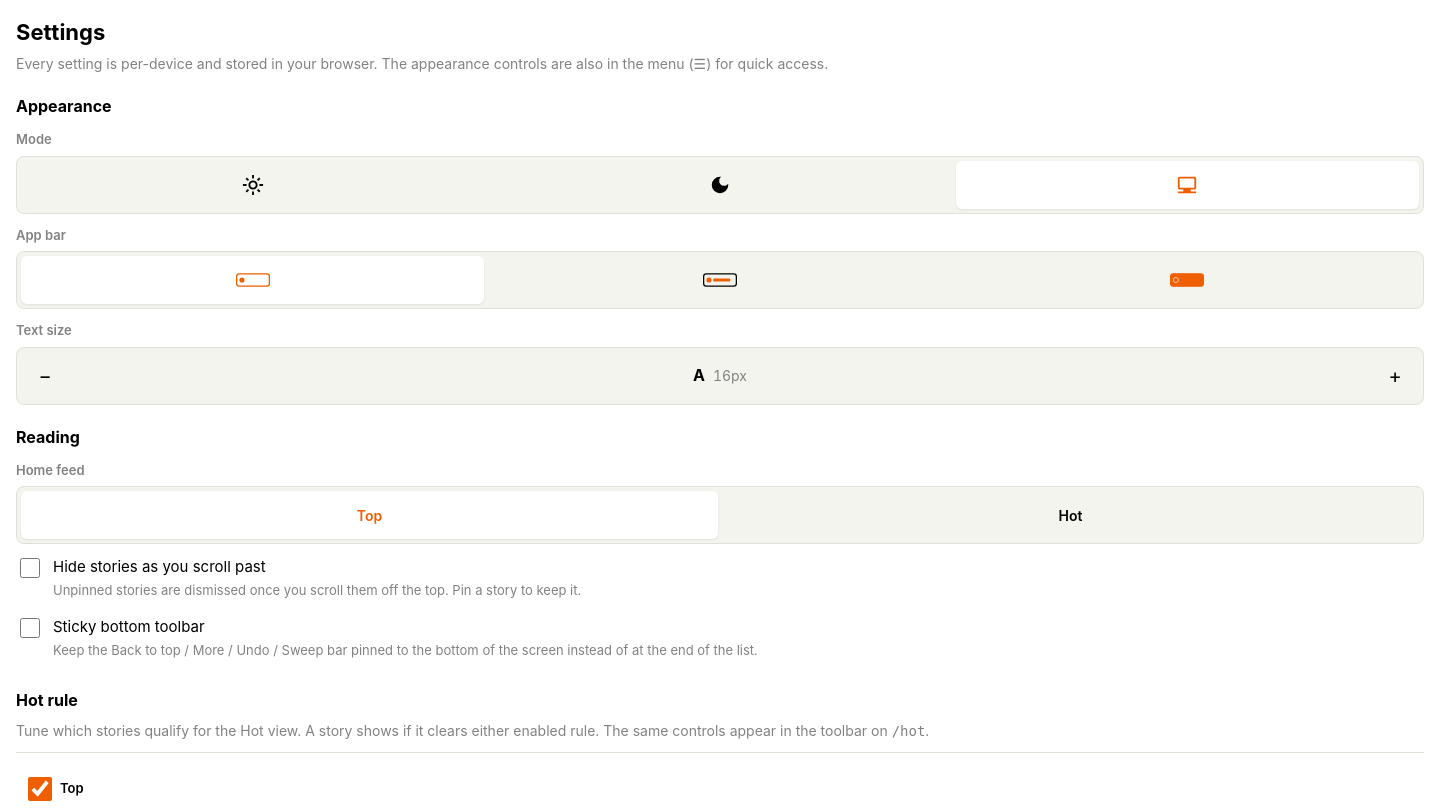
Test case: <SettingsPage> › Reading toggles default to off and persist when flipped
The width and height of the screenshot is (1440, 810).
Expected: the checkbox labelled "Sticky bottom toolbar" is not checked, x1=20 y1=618 x2=40 y2=638
Click the checkbox labelled "Hide stories as you scroll past" at (30, 568), box x1=20 y1=558 x2=40 y2=578
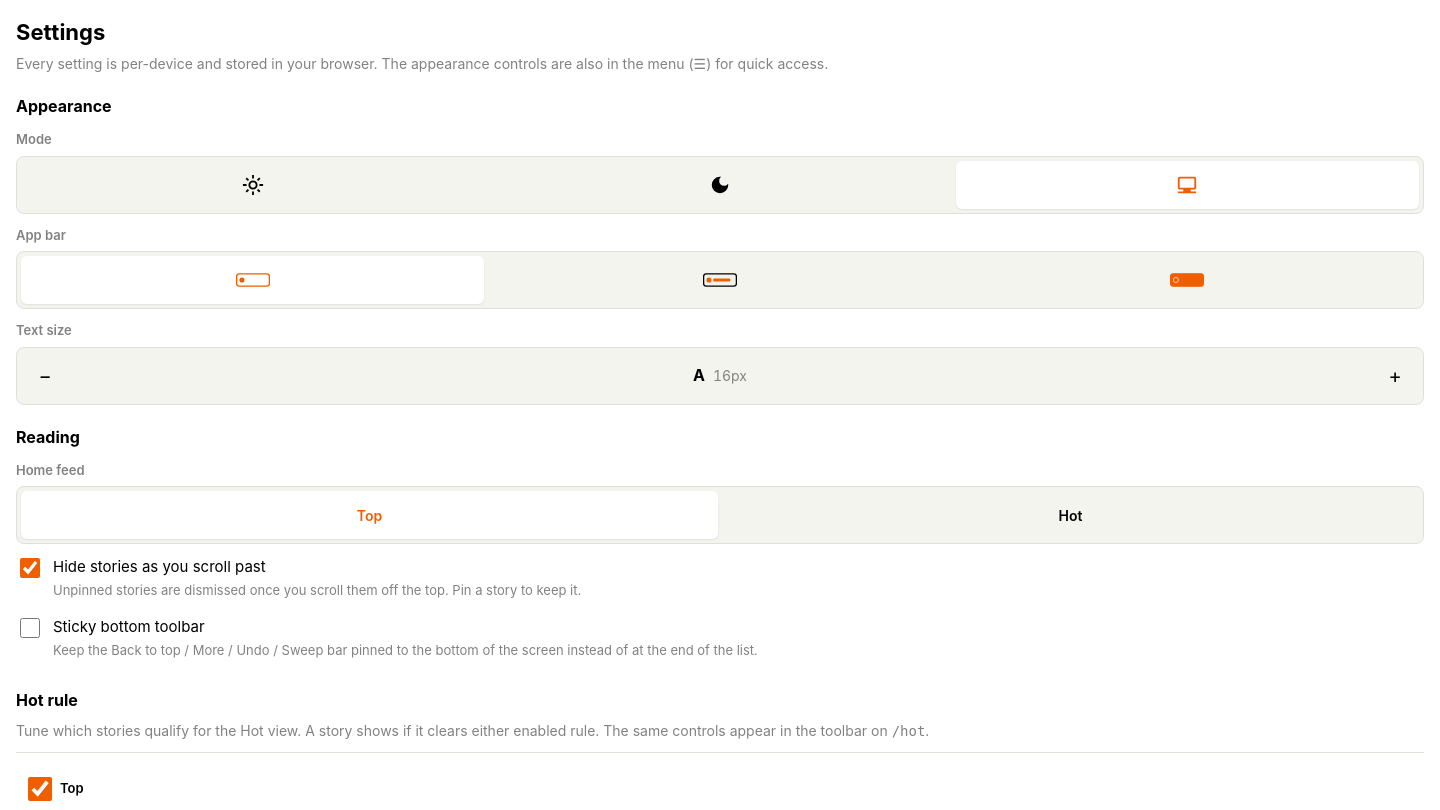
Result: the checkbox labelled "Hide stories as you scroll past" is checked at x1=20 y1=558 x2=40 y2=578
Click the checkbox labelled "Sticky bottom toolbar" at (30, 628), box x1=20 y1=618 x2=40 y2=638
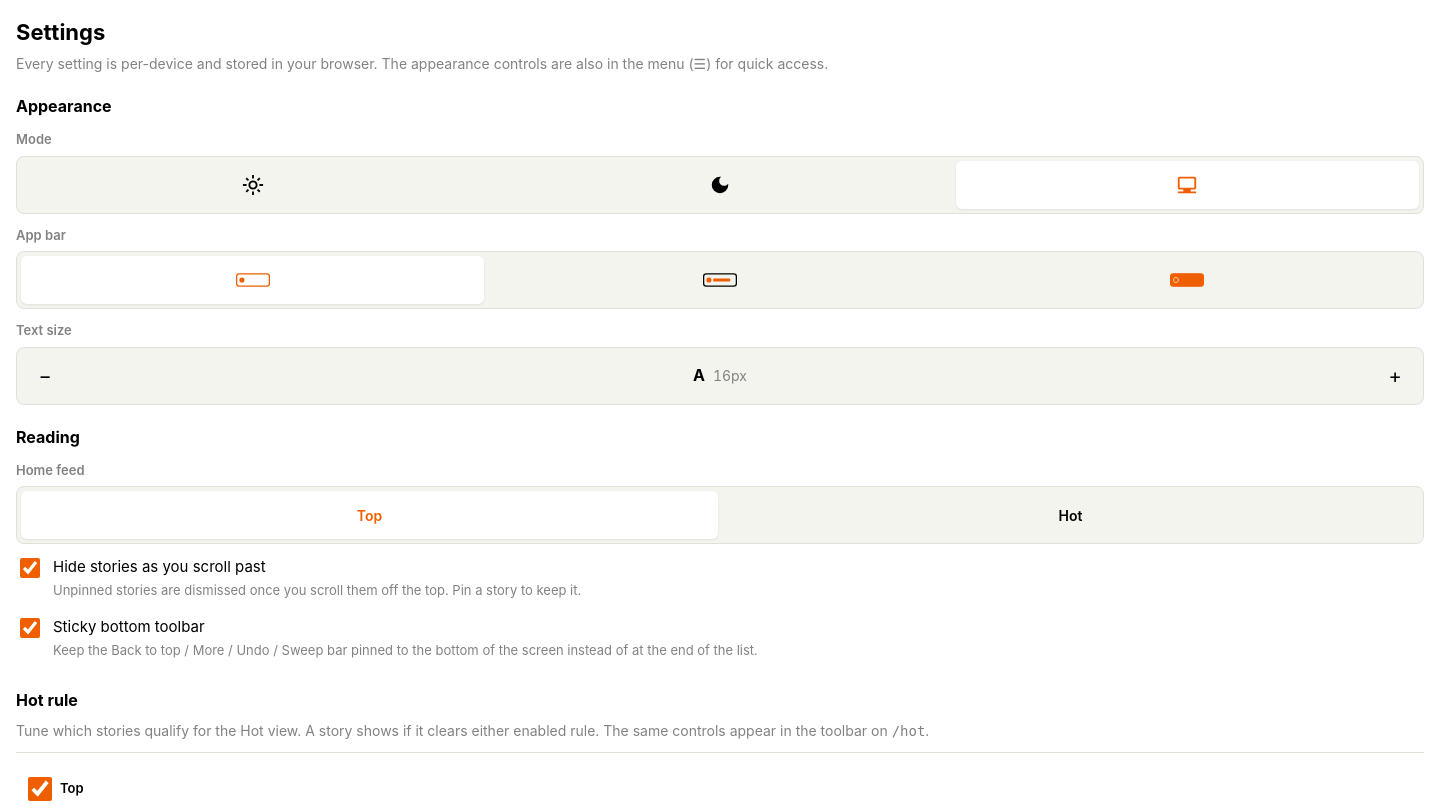
Result: the checkbox labelled "Sticky bottom toolbar" is checked at x1=20 y1=618 x2=40 y2=638
# Turning a toggle back off clears its key.
Click the checkbox labelled "Hide stories as you scroll past" at (30, 568), box x1=20 y1=558 x2=40 y2=578
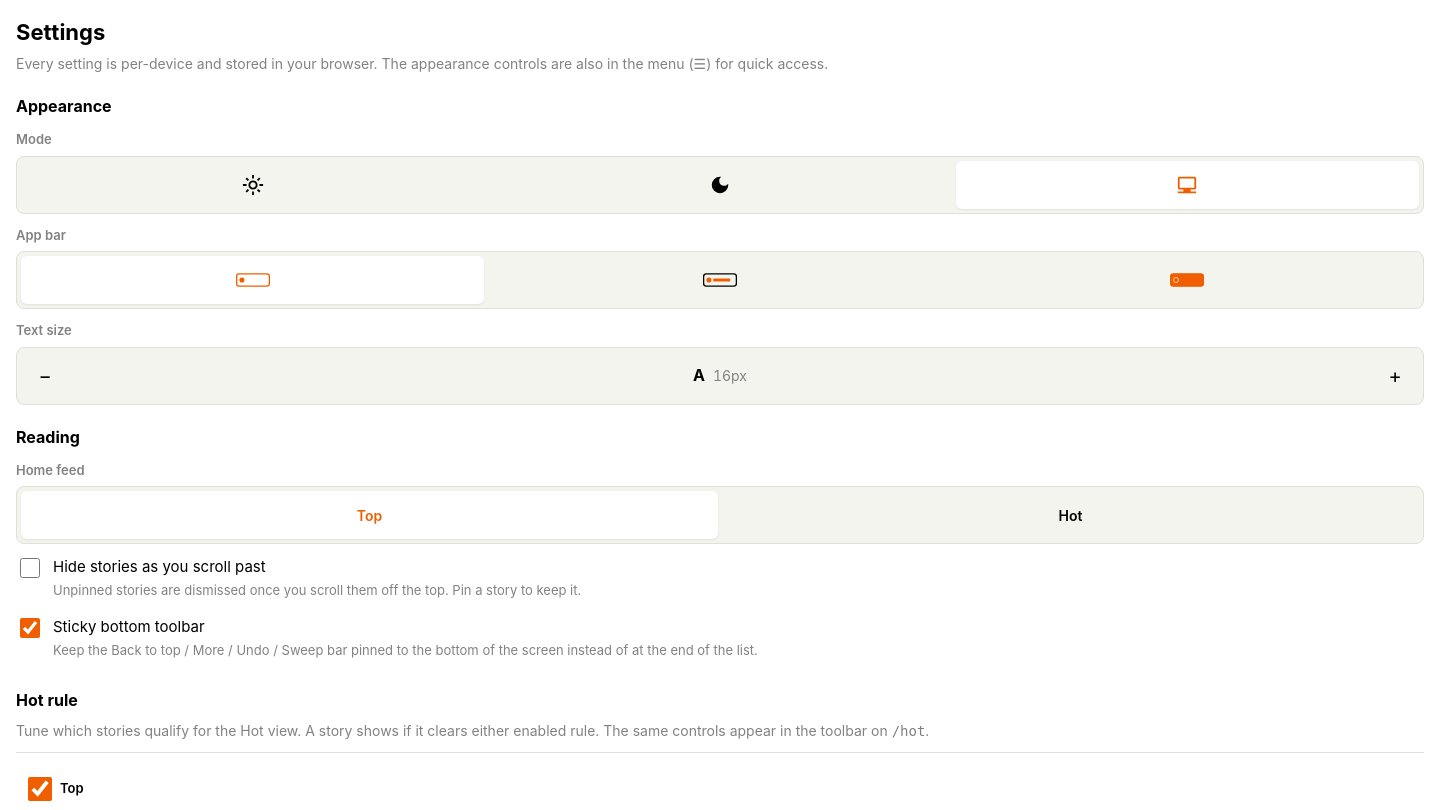
Result: the checkbox labelled "Hide stories as you scroll past" is not checked at x1=20 y1=558 x2=40 y2=578
